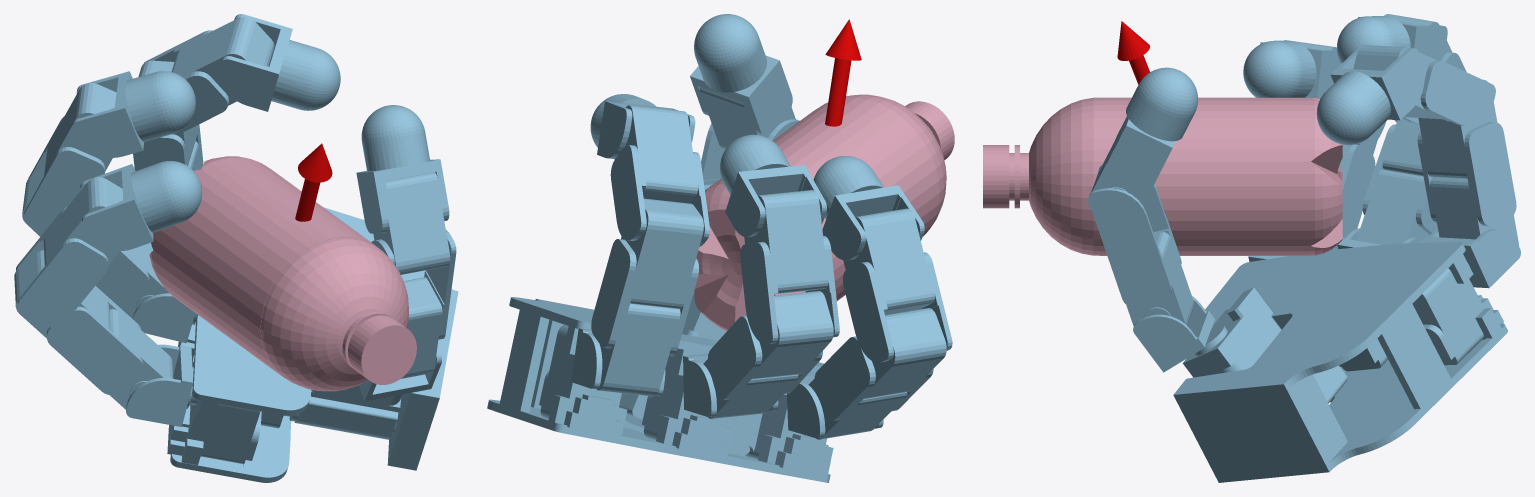
The picture shows the model from 3 angles, left to right: view 1: azimuth 30°, elevation 25°; view 2: azimuth 150°, elevation 25°; view 3: azimuth 270°, elevation 25°; orthographic projection. The views are drawn at different scales.
Visible parts, largest first — view 1: world, water_bottle.stl; view 2: world, water_bottle.stl; view 3: world, water_bottle.stl.
Boxes of the visible parts, <box> form: world: <box>14,14,458,482</box>; water_bottle.stl: <box>149,156,416,391</box>; world: <box>487,14,952,482</box>; water_bottle.stl: <box>694,94,954,331</box>; world: <box>1088,14,1520,482</box>; water_bottle.stl: <box>983,97,1342,255</box>.
Size of the model in its own units: 0.1818 by 0.1667 by 0.2043.
